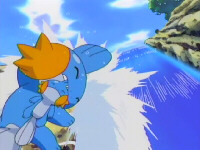mudkip: (1, 36, 112, 147), (12, 78, 68, 146)
